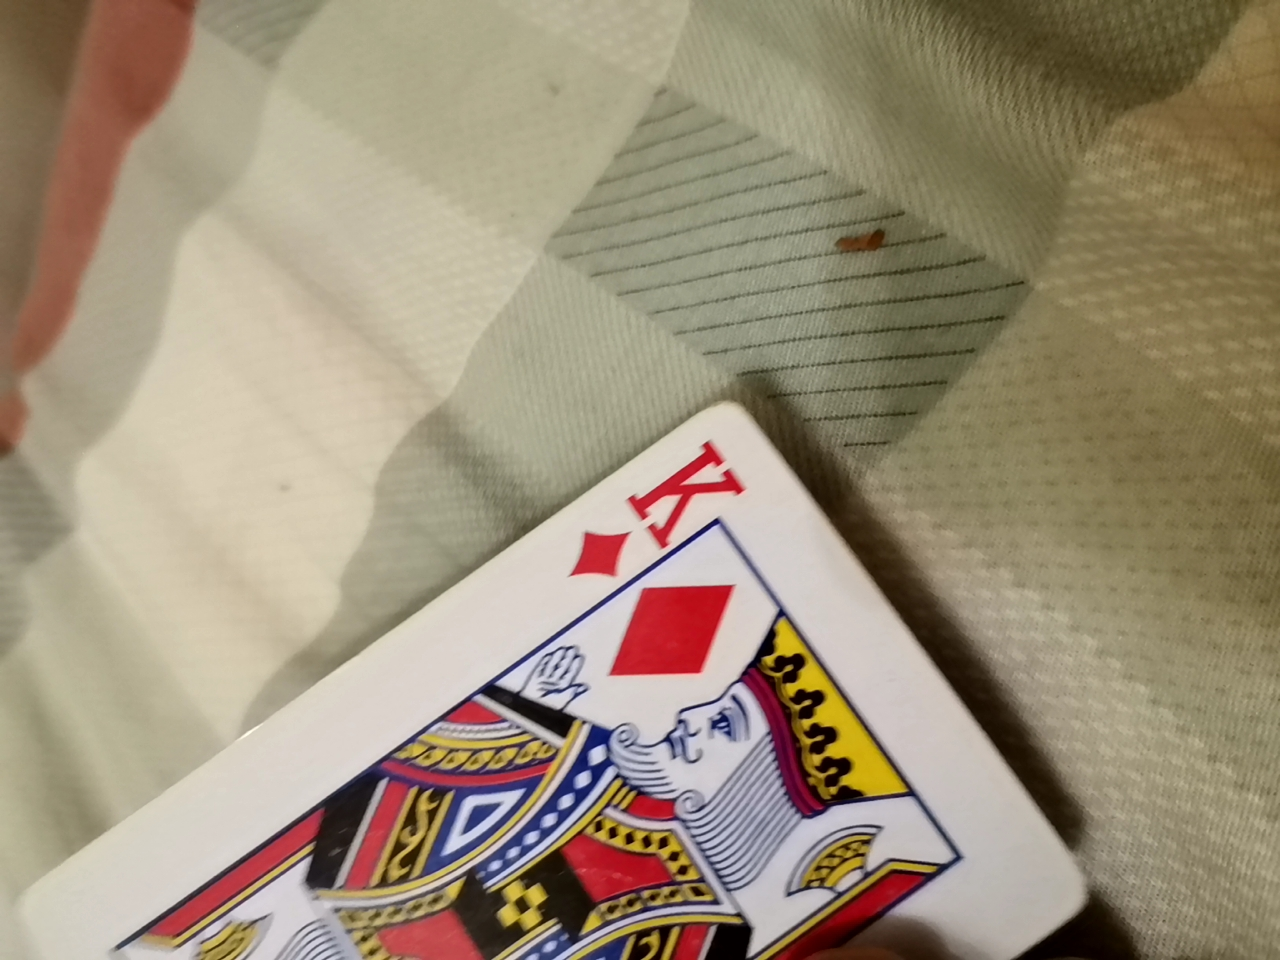fk k: (9, 413, 1110, 952)
